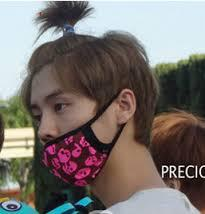WRONG: (30, 90, 129, 189)
